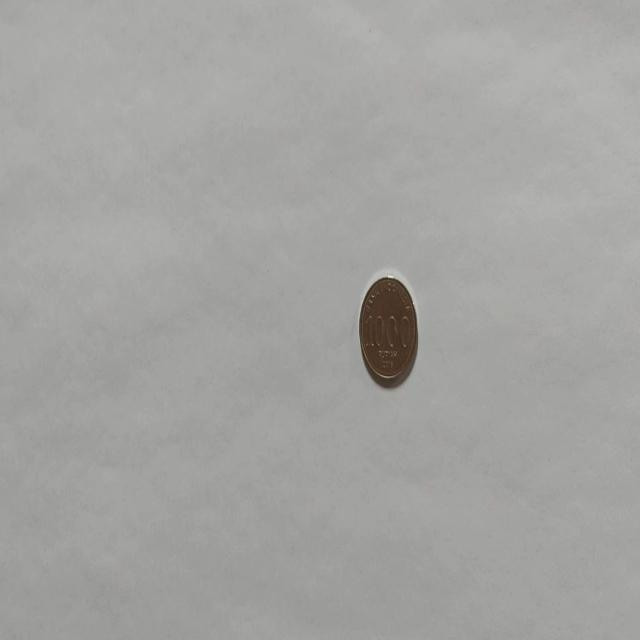seribu rupiah koin: (358, 271, 418, 388)
